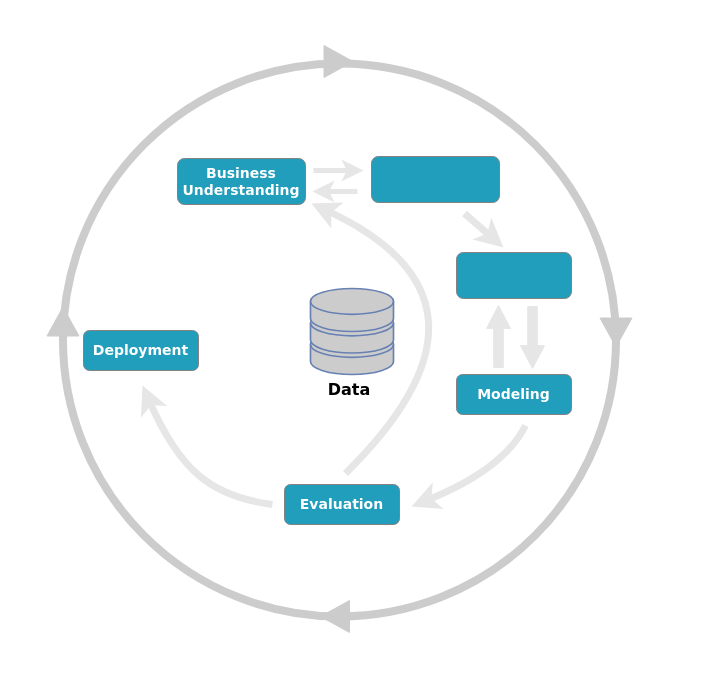
Some shapes in this 703 by 682 pixel diagram are drawn without their labels. The shapes that lost their labels are listed below. From the top down, each one's centre as x and y in pixels, then its label:
(435,179): Data Understanding
(514,275): Data Preparation
